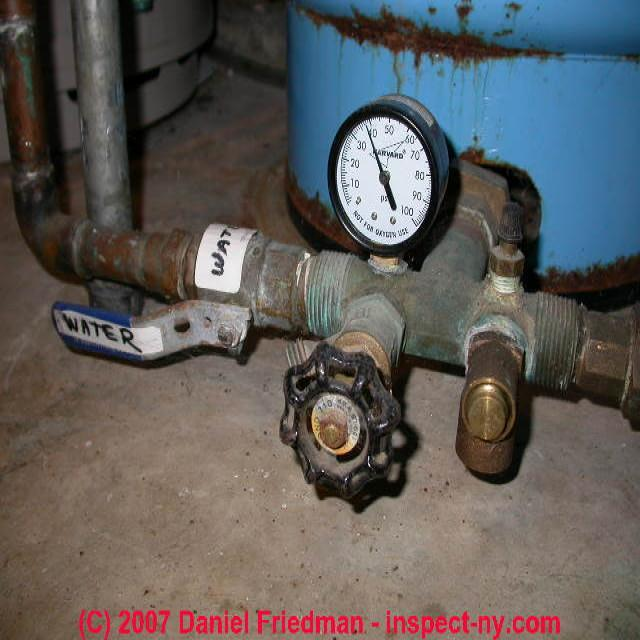Lever Handle Valve Threaded: (51, 223, 308, 366)
Wheel Handle Valve Threaded: (281, 246, 473, 510)
